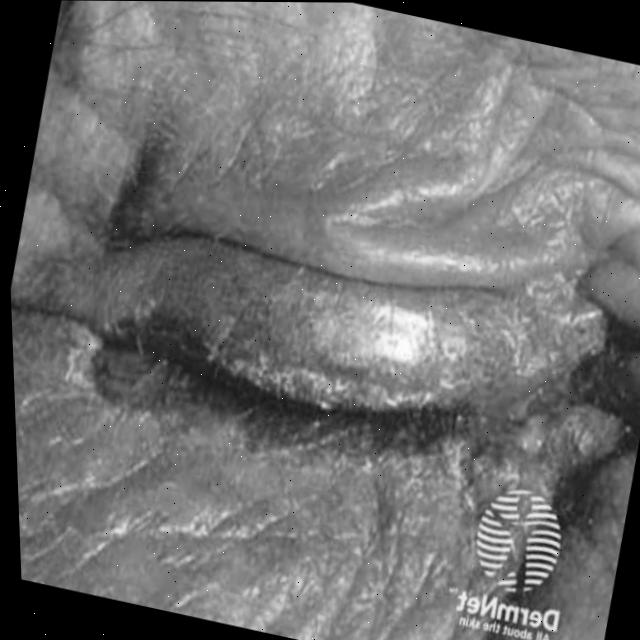Eczema: (102, 245, 622, 524)
